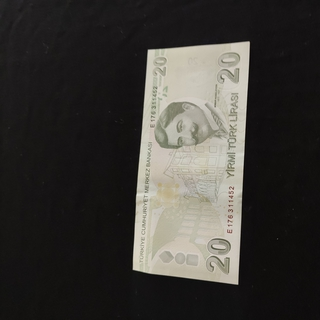20TLBack: (132, 41, 250, 285)
